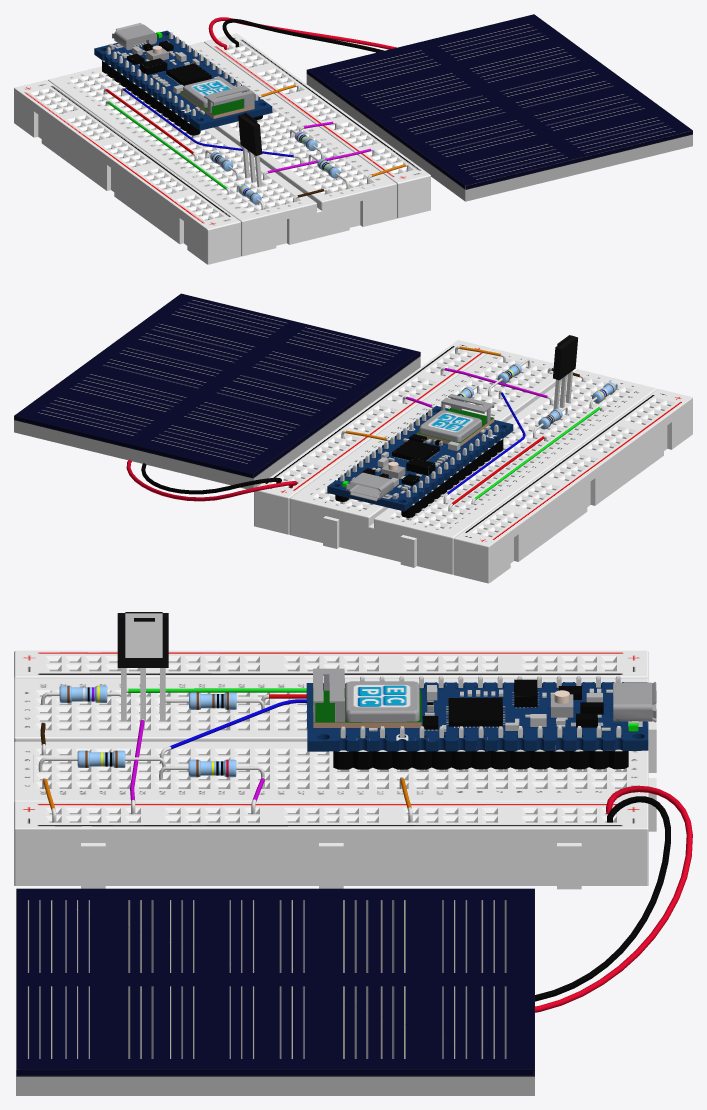
The model's file is Breadboard_PV.glb.
3 views of the same model, one above another, from view 1: azimuth 30°, elevation 25°; view 2: azimuth 150°, elevation 25°; view 3: azimuth 270°, elevation 25° (orthographic). The views are drawn at different scales.
Visible parts, largest first — view 1: Cube, bread_board_outer, bread_board_inner, arduino, arduino_pins, PV_wire_black, Mosfet, PV_wire_red, wire_blue, wire_green; view 2: Cube, bread_board_outer, bread_board_inner, arduino, arduino_pins, PV_wire_red, Mosfet, PV_wire_black, wire_green, wire_blue; view 3: Cube, bread_board_outer, bread_board_inner, arduino, arduino_pins, Mosfet, PV_wire_red, PV_wire_black, wire_green, resistor_cylinder.002, resistor_cylinder, resistor_cylinder.003 (+1 smaller).
Part boxes in pixels (bbox=[...]): Cube: bbox=[306, 14, 692, 201]; bread_board_outer: bbox=[14, 33, 430, 264]; bread_board_inner: bbox=[29, 41, 415, 221]; arduino: bbox=[94, 22, 272, 130]; arduino_pins: bbox=[102, 32, 262, 137]; PV_wire_black: bbox=[222, 19, 383, 52]; Mosfet: bbox=[238, 112, 262, 155]; PV_wire_red: bbox=[208, 17, 396, 49]; wire_blue: bbox=[121, 88, 302, 163]; wire_green: bbox=[105, 100, 230, 194]; Cube: bbox=[14, 293, 420, 489]; bread_board_outer: bbox=[254, 340, 692, 583]; bread_board_inner: bbox=[270, 348, 676, 537]; arduino: bbox=[327, 394, 513, 511]; arduino_pins: bbox=[335, 408, 503, 520]; PV_wire_red: bbox=[126, 459, 297, 501]; Mosfet: bbox=[553, 335, 577, 380]; PV_wire_black: bbox=[141, 463, 281, 494]; wire_green: bbox=[471, 406, 602, 504]; wire_blue: bbox=[443, 390, 525, 504]; Cube: bbox=[16, 888, 534, 1095]; bread_board_outer: bbox=[14, 650, 656, 889]; bread_board_inner: bbox=[33, 655, 628, 823]; arduino: bbox=[306, 668, 656, 751]; arduino_pins: bbox=[333, 676, 628, 771]; Mosfet: bbox=[117, 612, 168, 667]; PV_wire_red: bbox=[535, 785, 692, 1012]; PV_wire_black: bbox=[535, 796, 670, 1001]; wire_green: bbox=[126, 688, 306, 692]; resistor_cylinder.002: bbox=[188, 759, 236, 777]; resistor_cylinder: bbox=[59, 685, 107, 702]; resistor_cylinder.003: bbox=[77, 750, 125, 767].
Bounding box in the file's own units: 2.88 × 0.5783 × 2.13.
27 materials, 3 textured.
